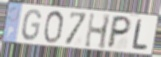7: (65, 11, 88, 47)
G: (20, 9, 42, 42)
H: (83, 11, 112, 51)
L: (131, 18, 149, 52)
O: (42, 10, 65, 44)
P: (105, 15, 133, 50)
